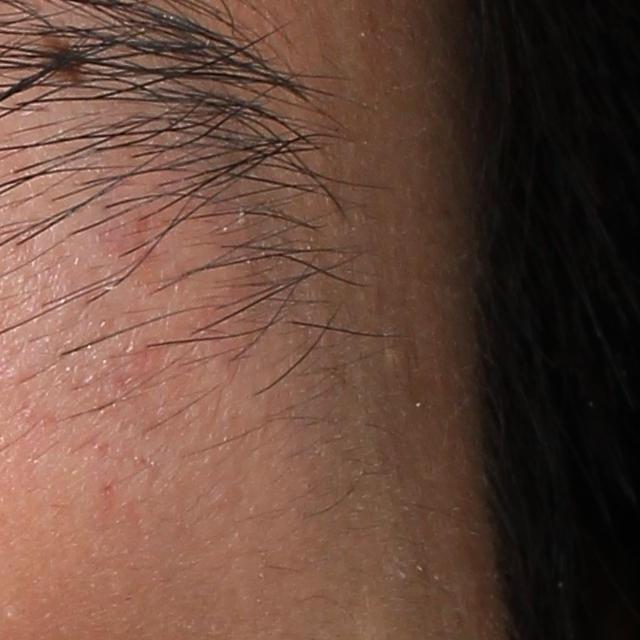nevus: (42, 29, 82, 81)
